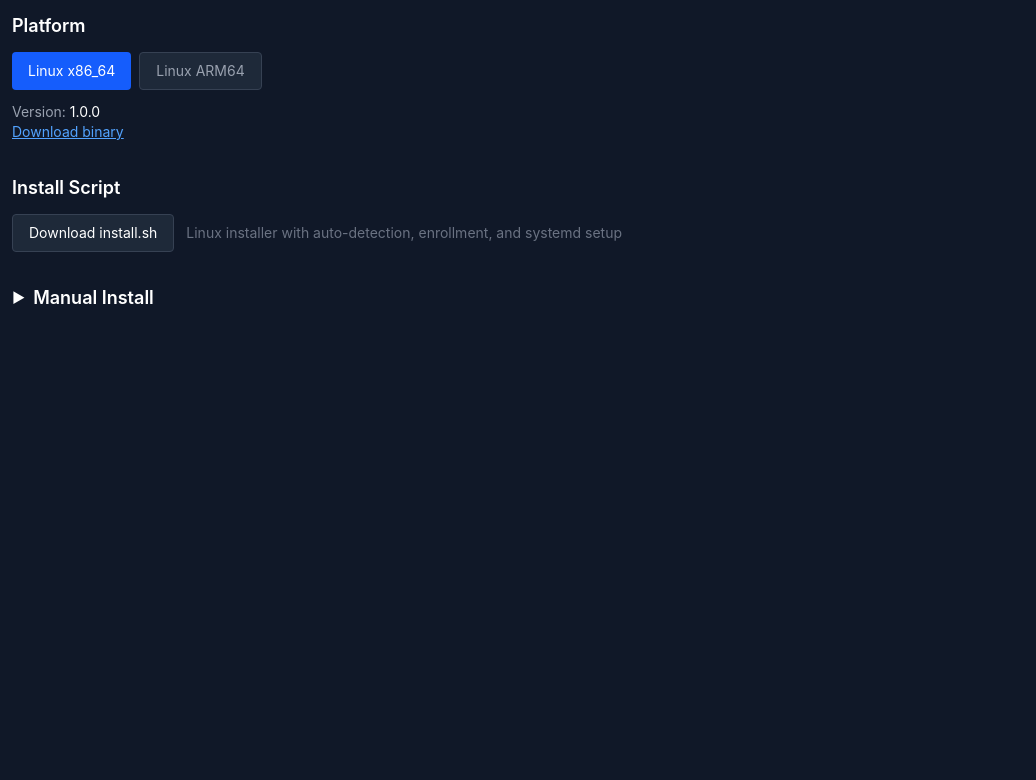
Scenario: InstallInstructions › Manual install hides on second click
The width and height of the screenshot is (1036, 780).
Click the button "▶ Manual Install". click: (83, 298)
box: [12,284,154,312]
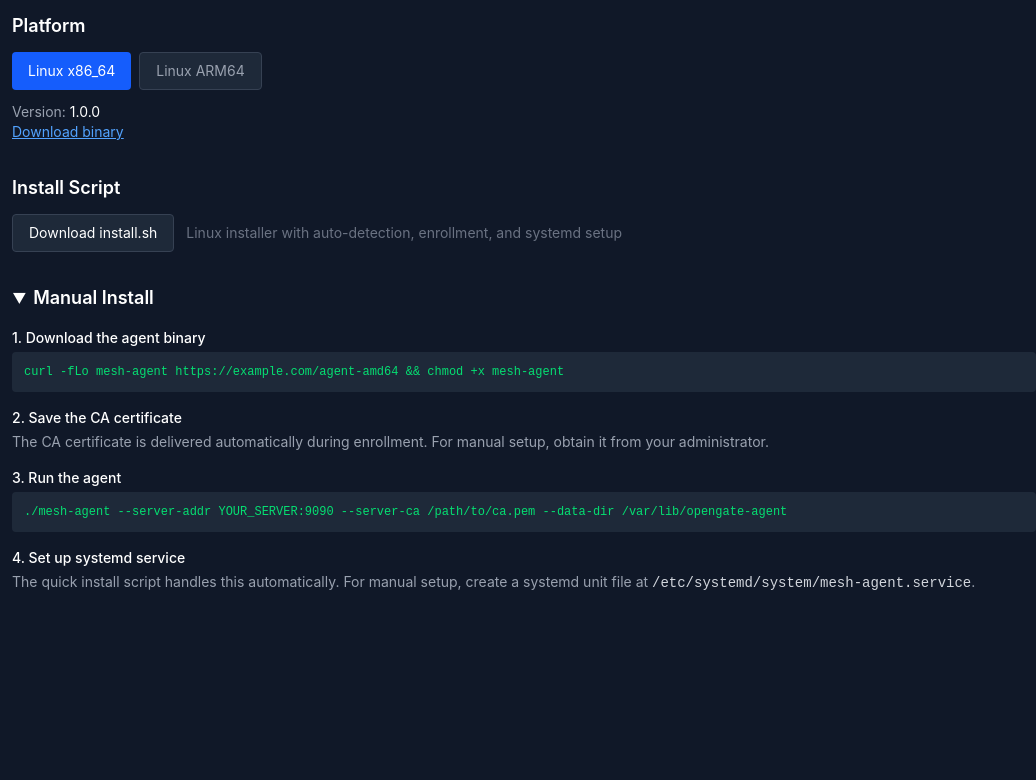
Check: the heading "1. Download the agent binary" is shown, box [12,329,206,346]
Click the button "▶ Manual Install". click: (83, 298)
box: [12,284,154,312]
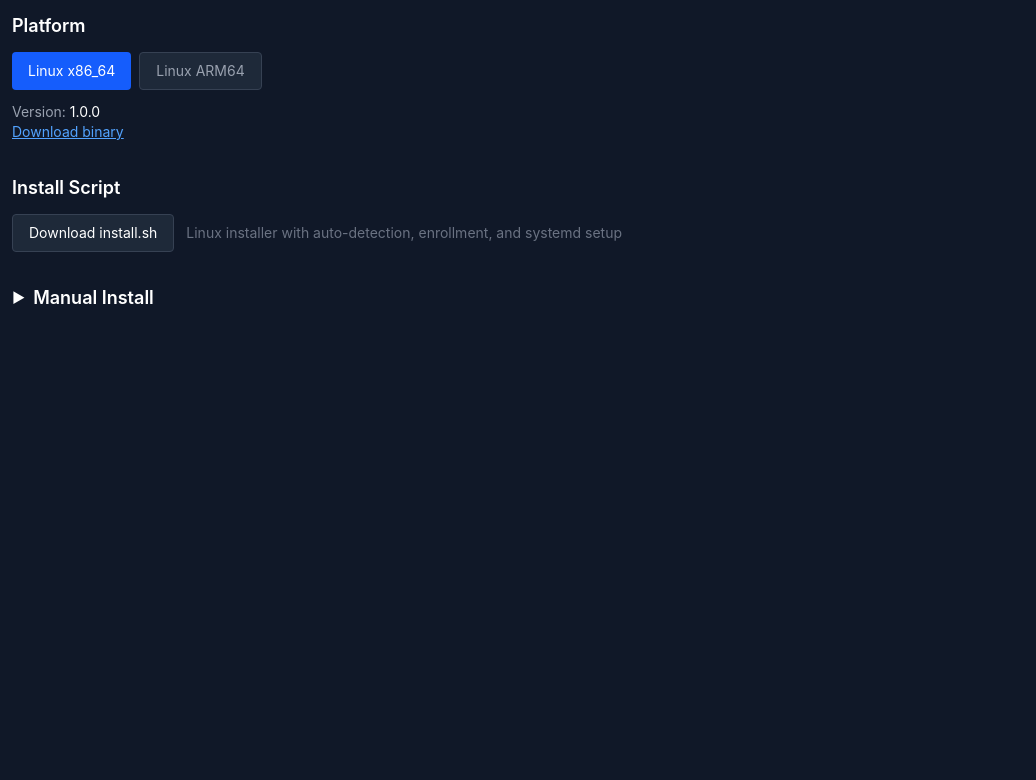
Check: the heading "Download the agent binary" is gone
